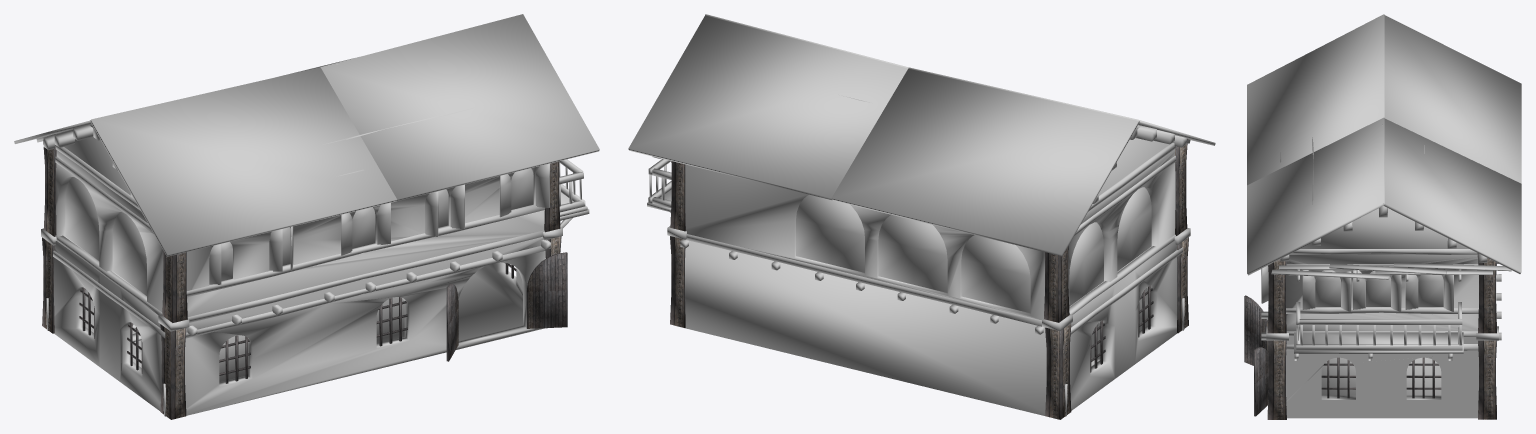
The model's file is tavern_storage_house.obj.
3 views of the same model, side by side, from view 1: azimuth 30°, elevation 25°; view 2: azimuth 150°, elevation 25°; view 3: azimuth 270°, elevation 25° (orthographic). The views are drawn at different scales.
Parts seen in each view (by area): view 1: house; view 2: house; view 3: house.
Boxes of the visible parts, left/top/right/bottom form: house: left=14, top=14, right=599, bottom=419; house: left=628, top=14, right=1215, bottom=419; house: left=1244, top=14, right=1521, bottom=419.
Bounding box in the file's own units: 26.7 × 14.65 × 16.01.
